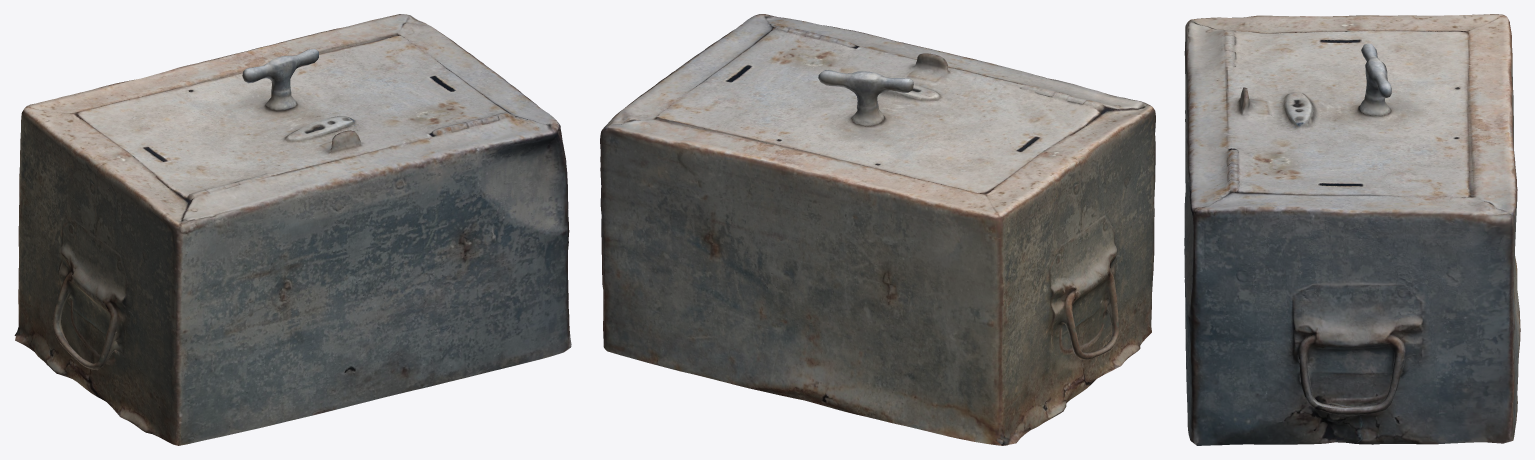
The model's file is locker.glb.
3 views of the same model, side by side, from view 1: azimuth 30°, elevation 25°; view 2: azimuth 150°, elevation 25°; view 3: azimuth 270°, elevation 25° (orthographic). The views are drawn at different scales.
Parts seen in each view (by area): view 1: Retopo_3DModel_mesh.001; view 2: Retopo_3DModel_mesh.001; view 3: Retopo_3DModel_mesh.001.
Part boxes in pixels (<box>): Retopo_3DModel_mesh.001: <box>14,14,571,445</box>; Retopo_3DModel_mesh.001: <box>600,14,1155,445</box>; Retopo_3DModel_mesh.001: <box>1184,14,1520,445</box>.
Bounding box in the file's own units: 0.6653 × 0.3903 × 0.421.
Materials: 1 (1 with a texture image).
